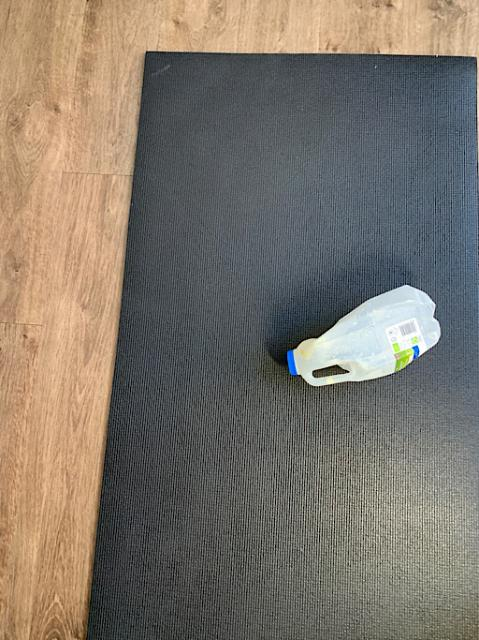plastic: (287, 284, 439, 384)
